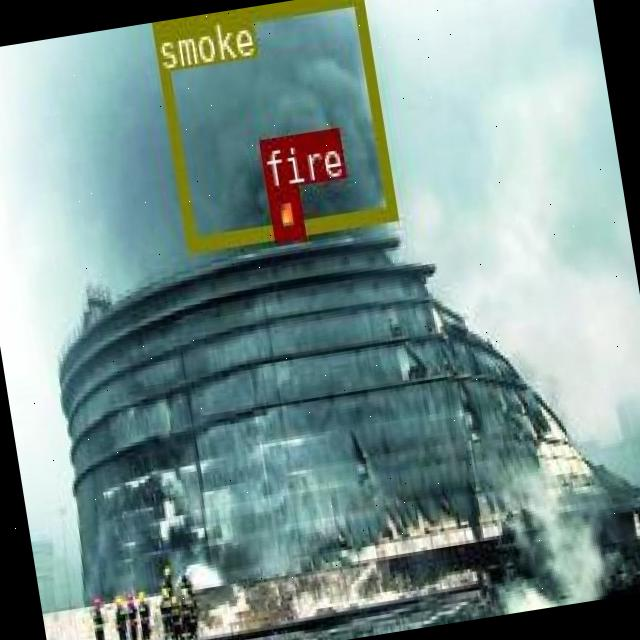fire: (266, 186, 302, 240)
smoke: (150, 0, 395, 251)
